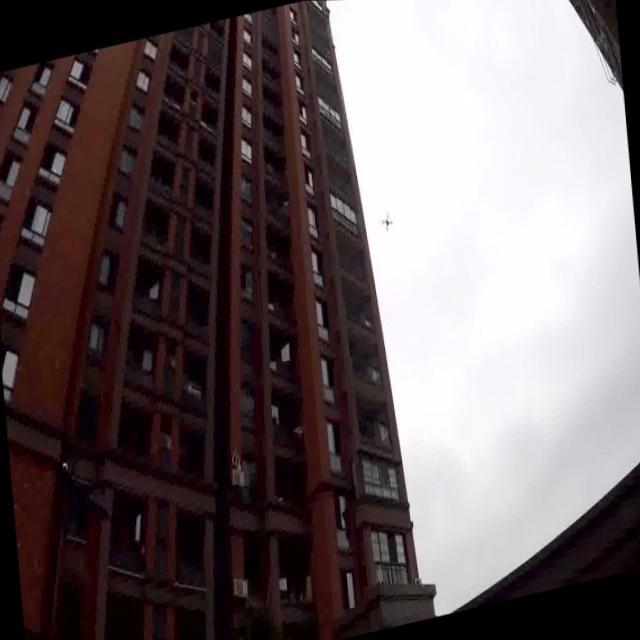drone: (378, 207, 396, 240)
